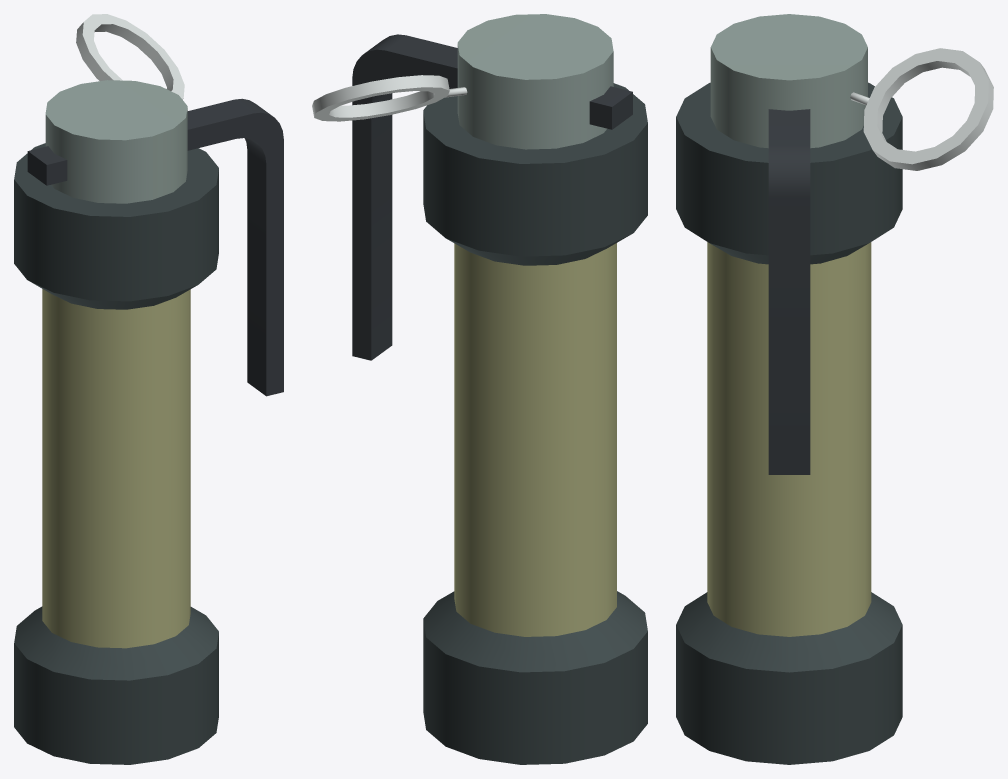
Rendered from Granade 2.fbx.
The picture shows the model from 3 angles, left to right: view 1: azimuth 30°, elevation 25°; view 2: azimuth 150°, elevation 25°; view 3: azimuth 270°, elevation 25°; orthographic projection. The views are drawn at different scales.
Parts seen in each view (by area): view 1: Granade 2; view 2: Granade 2; view 3: Granade 2.
Part boxes in pixels (bbox=[...]): Granade 2: bbox=[14, 14, 283, 764]; Granade 2: bbox=[312, 14, 647, 764]; Granade 2: bbox=[676, 14, 993, 764].
Size of the model in its own units: 0.1804 by 0.4396 by 0.1832.
